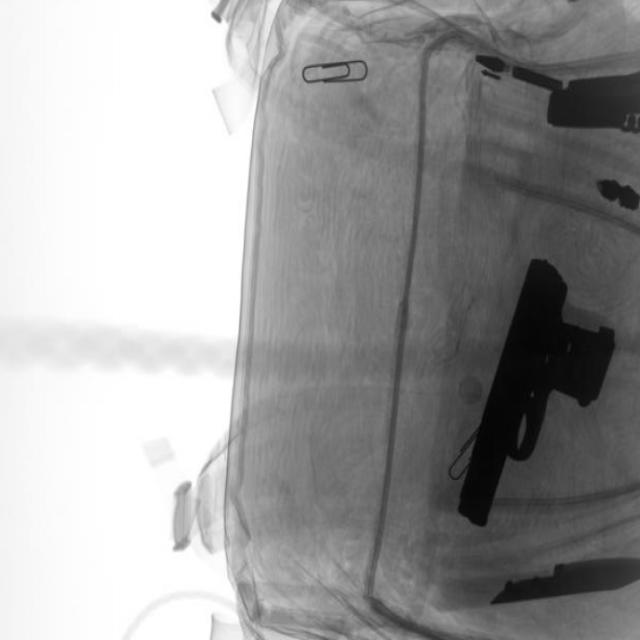GUN: (458, 257, 618, 522)
KNIFE: (490, 544, 639, 622)
